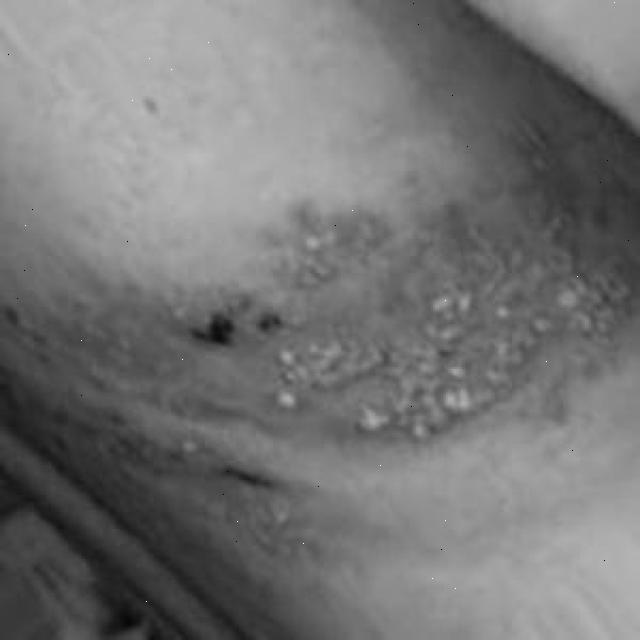Shingles: (241, 200, 624, 446)
